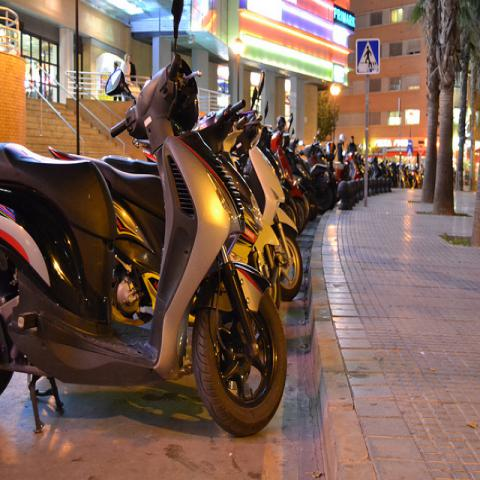motorcycle: (0, 0, 290, 439), (49, 99, 263, 330), (230, 124, 302, 302), (270, 115, 306, 236), (284, 113, 320, 221), (293, 130, 333, 211), (248, 210, 280, 310), (318, 140, 338, 206), (334, 151, 362, 183), (406, 167, 424, 189), (367, 156, 384, 178), (388, 161, 400, 188), (379, 160, 391, 178)
